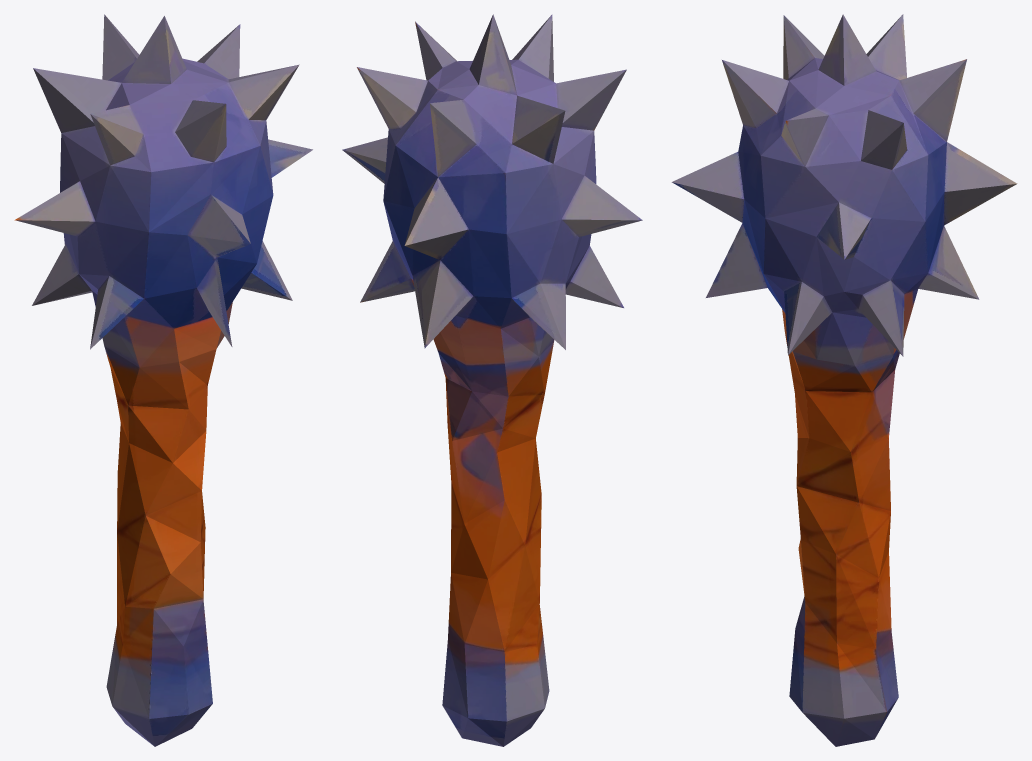
The model's file is crystal_mace_2.glb.
The picture shows the model from 3 angles, left to right: view 1: azimuth 30°, elevation 25°; view 2: azimuth 150°, elevation 25°; view 3: azimuth 270°, elevation 25°; orthographic projection.
Visible parts, largest first — view 1: TexturedMesh_.obj; view 2: TexturedMesh_.obj; view 3: TexturedMesh_.obj.
Part boxes in pixels (x1,y1,x2,y2): TexturedMesh_.obj: (14, 14, 312, 746); TexturedMesh_.obj: (342, 14, 642, 746); TexturedMesh_.obj: (671, 14, 1017, 746).
Bounding box in the file's own units: 0.8729 × 2 × 0.8684.
Materials: 1 (1 with a texture image).
